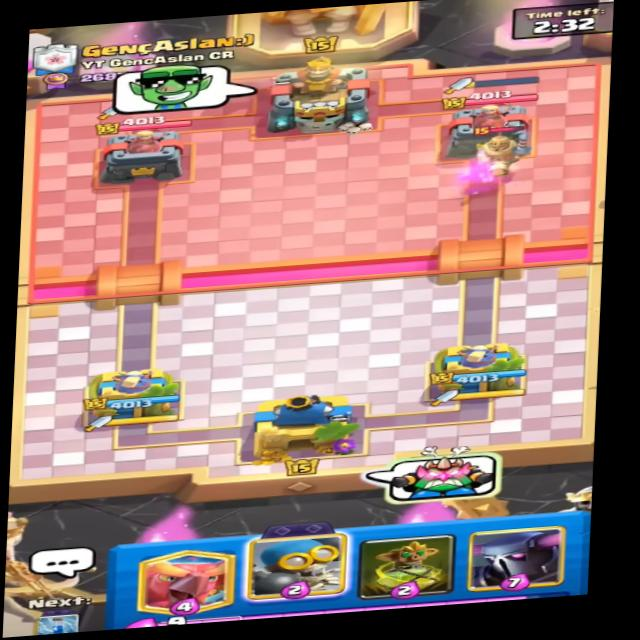Prince: (464, 124, 532, 182)
